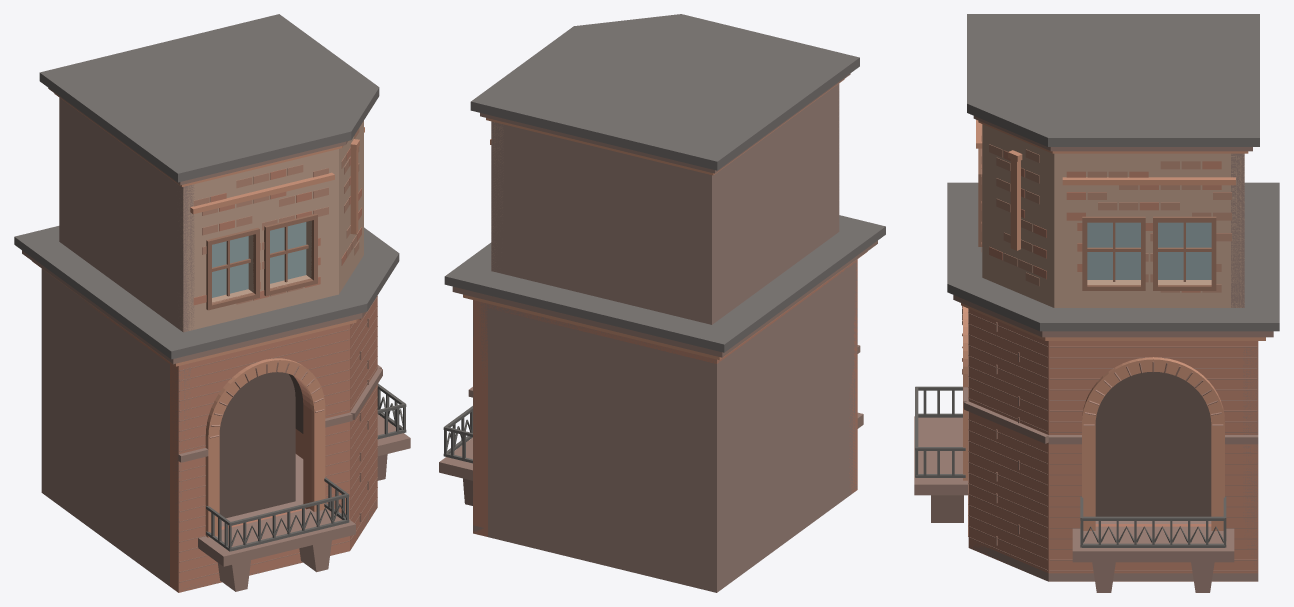
Rendered from huangpu-yuanfang-lane-railway-corner-raw.glb.
The picture shows the model from 3 angles, left to right: view 1: azimuth 30°, elevation 25°; view 2: azimuth 150°, elevation 25°; view 3: azimuth 270°, elevation 25°; orthographic projection. The views are drawn at different scales.
Parts seen in each view (by area): view 1: 元芳弄原沪宁铁路局东南角塔楼; view 2: 元芳弄原沪宁铁路局东南角塔楼; view 3: 元芳弄原沪宁铁路局东南角塔楼.
Boxes of the visible parts, x1,y1,x2,y2 form: 元芳弄原沪宁铁路局东南角塔楼: (14, 14, 410, 592); 元芳弄原沪宁铁路局东南角塔楼: (439, 14, 885, 592); 元芳弄原沪宁铁路局东南角塔楼: (914, 14, 1279, 592).
Size of the model in its own units: 4.29 by 5.76 by 4.29.
